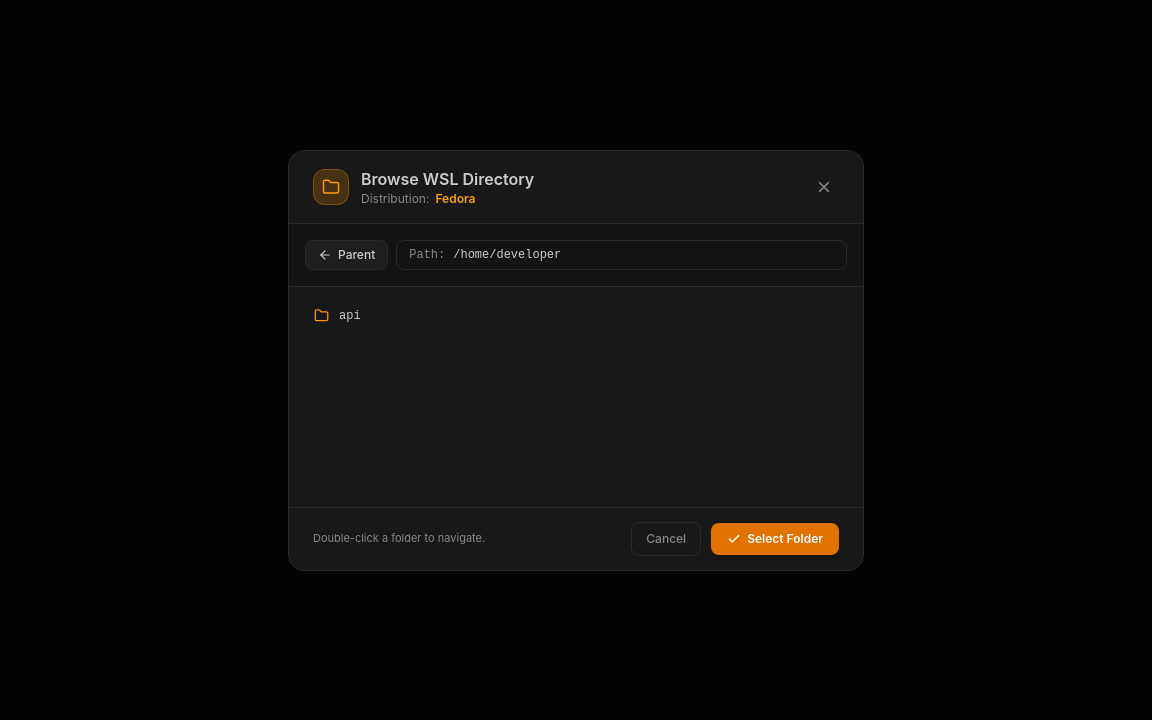
Test: WslDirectoryBrowserModal Component › navigates to parent directory when Parent button is clicked
The width and height of the screenshot is (1152, 720).
Expected: the text "api" is shown, [339, 308, 361, 324]
Click the button "Parent" at x=347, y=254, box [305, 240, 388, 270]
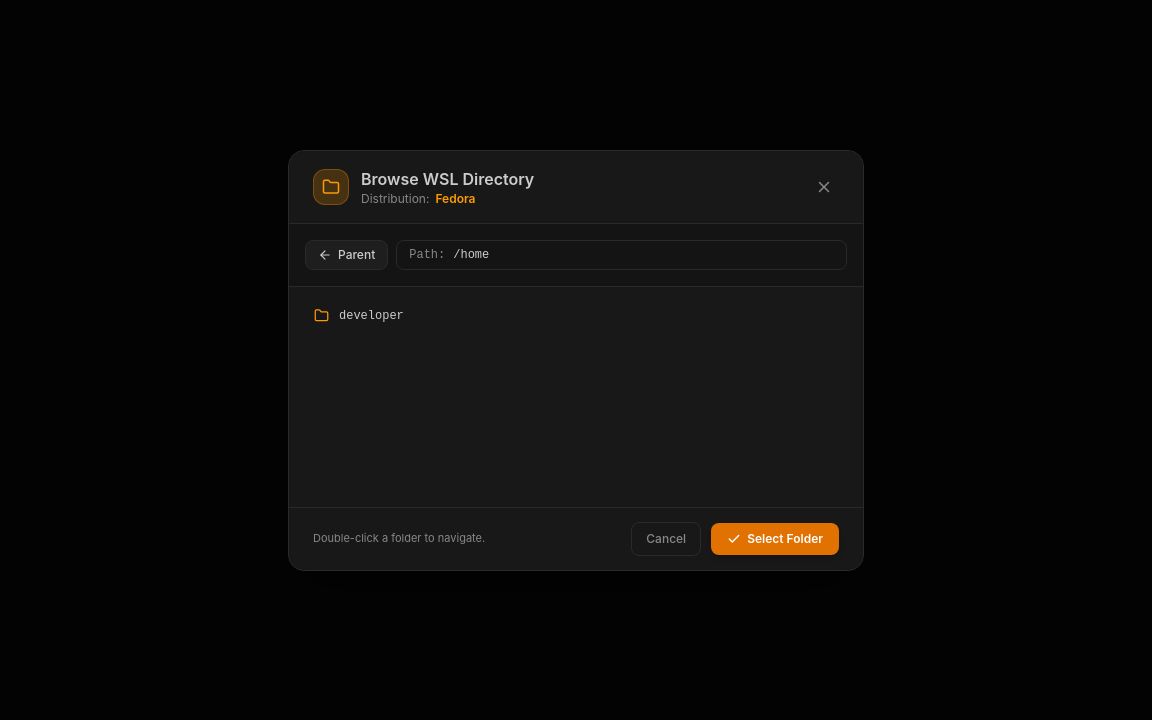
Now the text "developer" is shown, box [339, 308, 404, 324]
